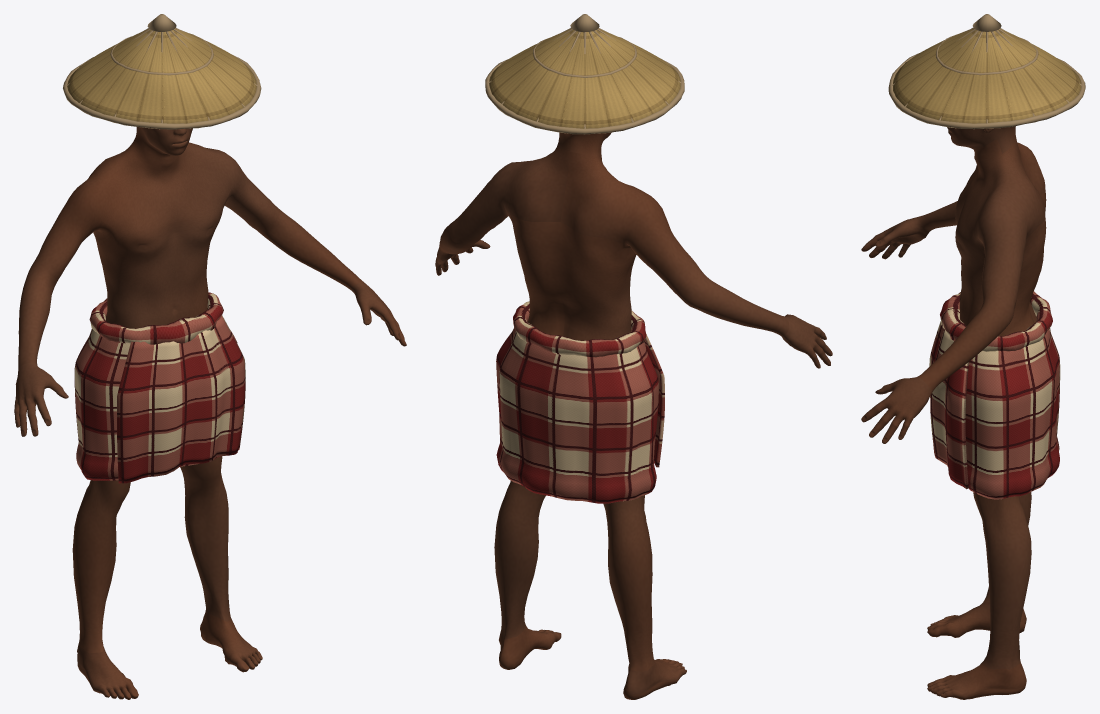
Rendered from fisherman.fbx.
3 views of the same model, side by side, from view 1: azimuth 30°, elevation 25°; view 2: azimuth 150°, elevation 25°; view 3: azimuth 270°, elevation 25° (orthographic).
Parts seen in each view (by area): view 1: Mixamo_fisherman; view 2: Mixamo_fisherman; view 3: Mixamo_fisherman.
Part boxes in pixels (x1,y1,x2,y2): Mixamo_fisherman: (14, 14, 406, 699); Mixamo_fisherman: (435, 14, 832, 699); Mixamo_fisherman: (861, 14, 1085, 699).
Bounding box in the file's own units: 1.13 × 1.83 × 0.575.
5 materials, 3 textured.
